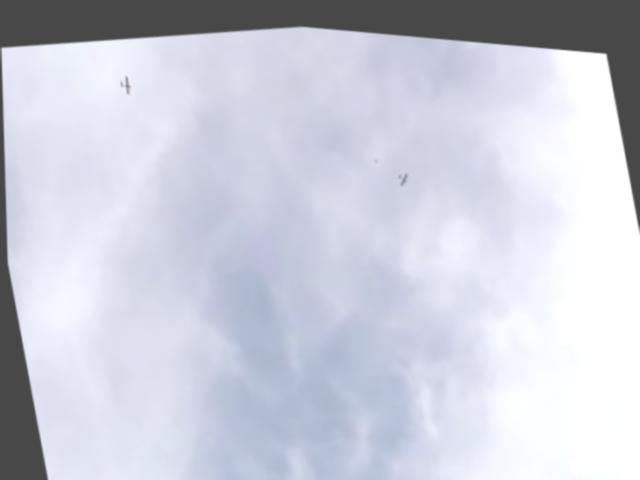uav: (117, 70, 134, 96), (394, 160, 410, 179)
